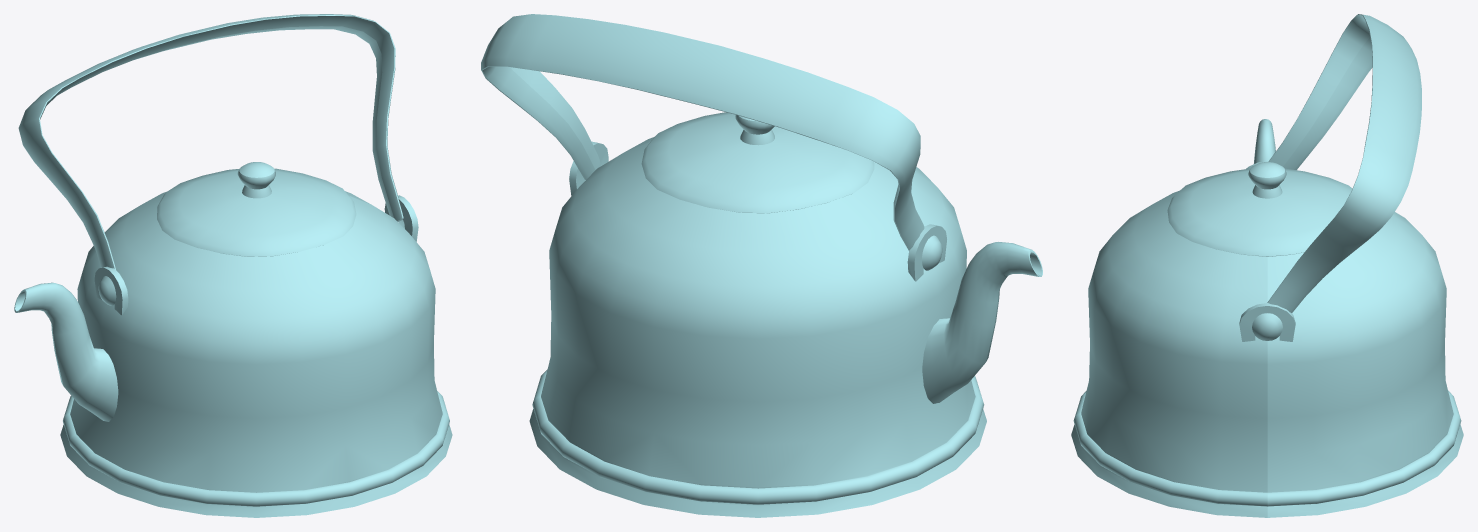
Rendered from kettle.fbx.
3 renders of one model, left to right at view 1: azimuth 30°, elevation 25°; view 2: azimuth 150°, elevation 25°; view 3: azimuth 270°, elevation 25°, orthographic. The views are drawn at different scales.
Parts seen in each view (by area): view 1: kettle; view 2: kettle; view 3: kettle.
Boxes of the visible parts, <box> form: kettle: <box>14,14,452,517</box>; kettle: <box>481,14,1042,517</box>; kettle: <box>1071,14,1463,517</box>.
Size of the model in its own units: 28.92 by 23.9 by 23.27.
